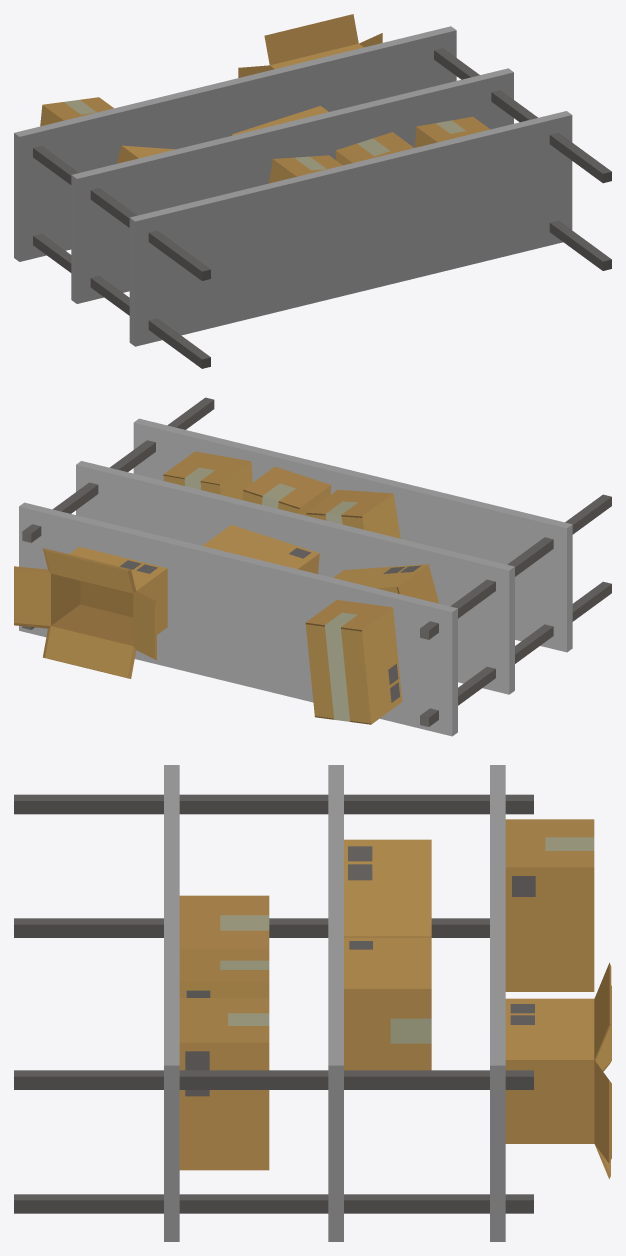
The model's file is Shelf3.glb.
3 views of the same model, one above another, from view 1: azimuth 30°, elevation 25°; view 2: azimuth 150°, elevation 25°; view 3: azimuth 270°, elevation 25° (orthographic). The views are drawn at different scales.
Parts seen in each view (by area): view 1: SO_Shelf_03; view 2: SO_Shelf_03; view 3: SO_Shelf_03.
Part boxes in pixels (x1,y1,x2,y2): SO_Shelf_03: (14, 14, 611, 368); SO_Shelf_03: (14, 397, 611, 736); SO_Shelf_03: (14, 765, 611, 1241).
Bounding box in the file's own units: 5.07 × 1.39 × 4.26.
1 material, 1 textured.
